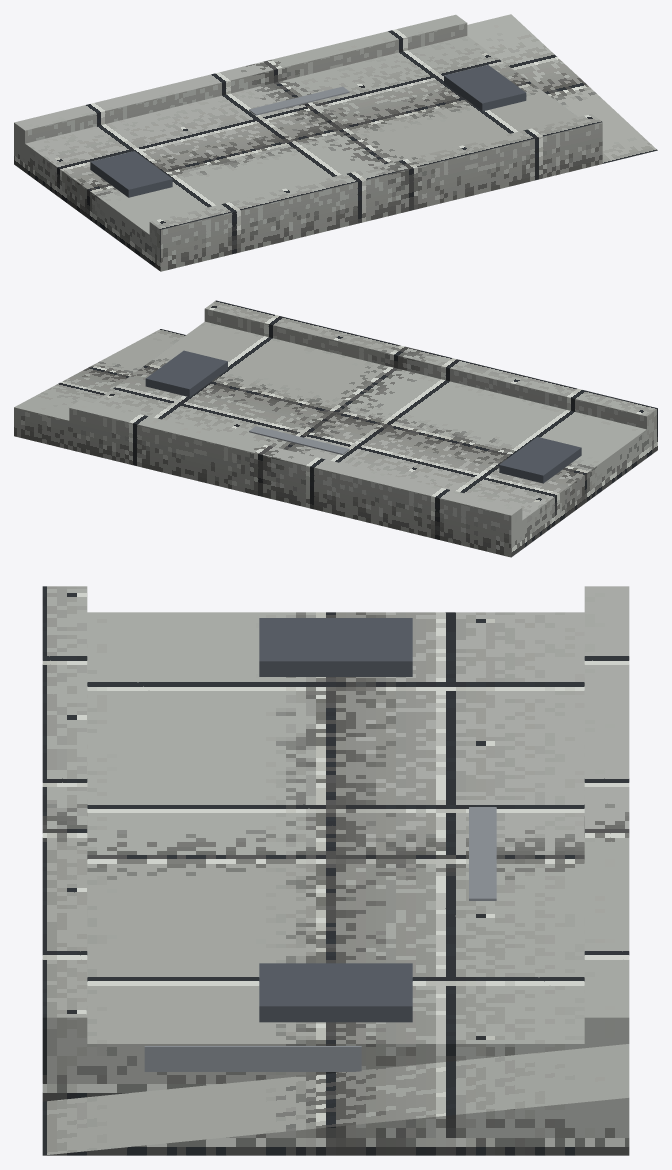
The model's file is phys_plate.glb.
3 views of the same model, one above another, from view 1: azimuth 30°, elevation 25°; view 2: azimuth 150°, elevation 25°; view 3: azimuth 270°, elevation 25° (orthographic). The views are drawn at different scales.
Visible parts, largest first — view 1: phys_plate, attach_slot_0, attach_slot_1, lightened_panel_1; view 2: phys_plate, attach_slot_1, attach_slot_0, lightened_panel_1; view 3: phys_plate, attach_slot_1, attach_slot_0, lightened_panel_0, lightened_panel_1.
Boxes of the visible parts, x1,y1,x2,y2 form: phys_plate: [14, 14, 657, 271]; attach_slot_0: [90, 151, 172, 197]; attach_slot_1: [444, 65, 526, 111]; lightened_panel_1: [249, 86, 349, 115]; phys_plate: [14, 300, 657, 557]; attach_slot_1: [145, 350, 227, 397]; attach_slot_0: [499, 437, 581, 483]; lightened_panel_1: [249, 426, 349, 454]; phys_plate: [42, 586, 629, 1155]; attach_slot_1: [259, 963, 412, 1022]; attach_slot_0: [259, 618, 412, 676]; lightened_panel_0: [144, 1046, 361, 1071]; lightened_panel_1: [469, 807, 496, 900].
Bounding box in the file's own units: 1.8 × 0.145 × 0.92.
Materials: 3 (1 with a texture image).
